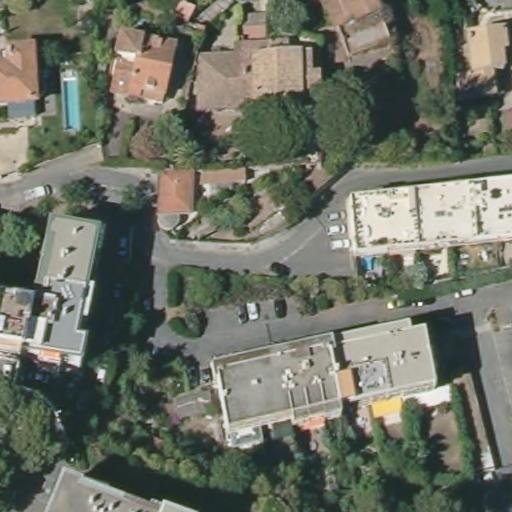pool: (60, 71, 86, 132)
